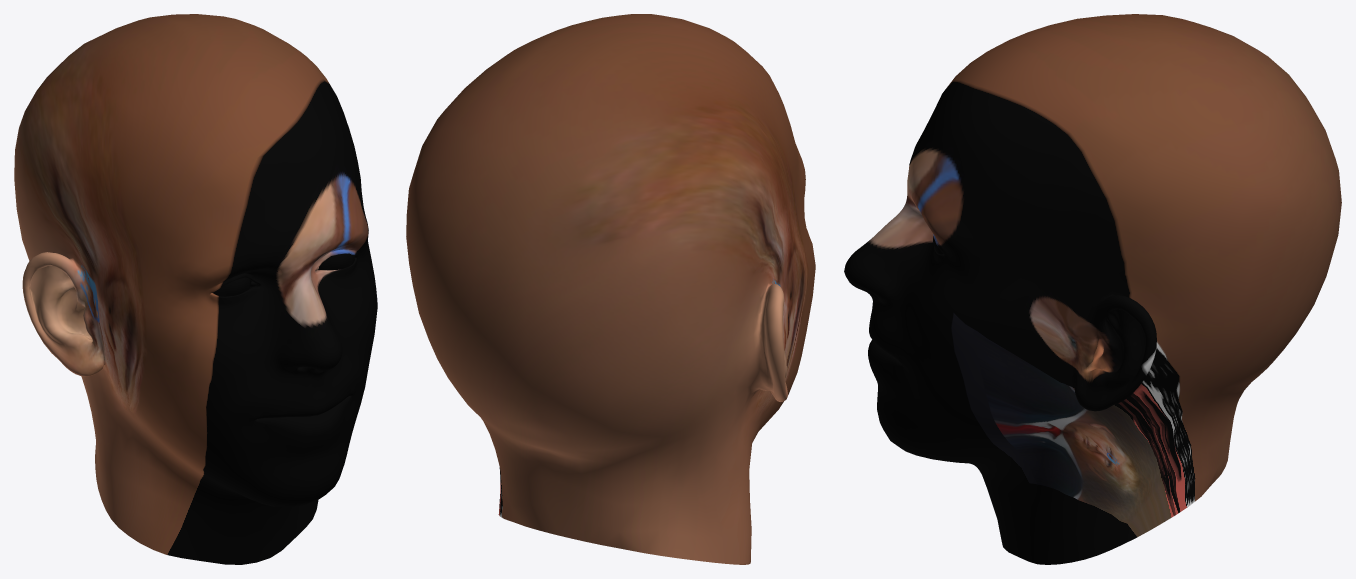
File: head_mesh.fbx
The picture shows the model from 3 angles, left to right: view 1: azimuth 30°, elevation 25°; view 2: azimuth 150°, elevation 25°; view 3: azimuth 270°, elevation 25°; orthographic projection. The views are drawn at different scales.
Visible parts, largest first — view 1: Head; view 2: Head; view 3: Head.
Boxes of the visible parts, <box> form: Head: <box>14,14,377,564</box>; Head: <box>406,14,815,564</box>; Head: <box>844,14,1341,564</box>.
Size of the model in its own units: 0.1882 by 0.2688 by 0.2376.
